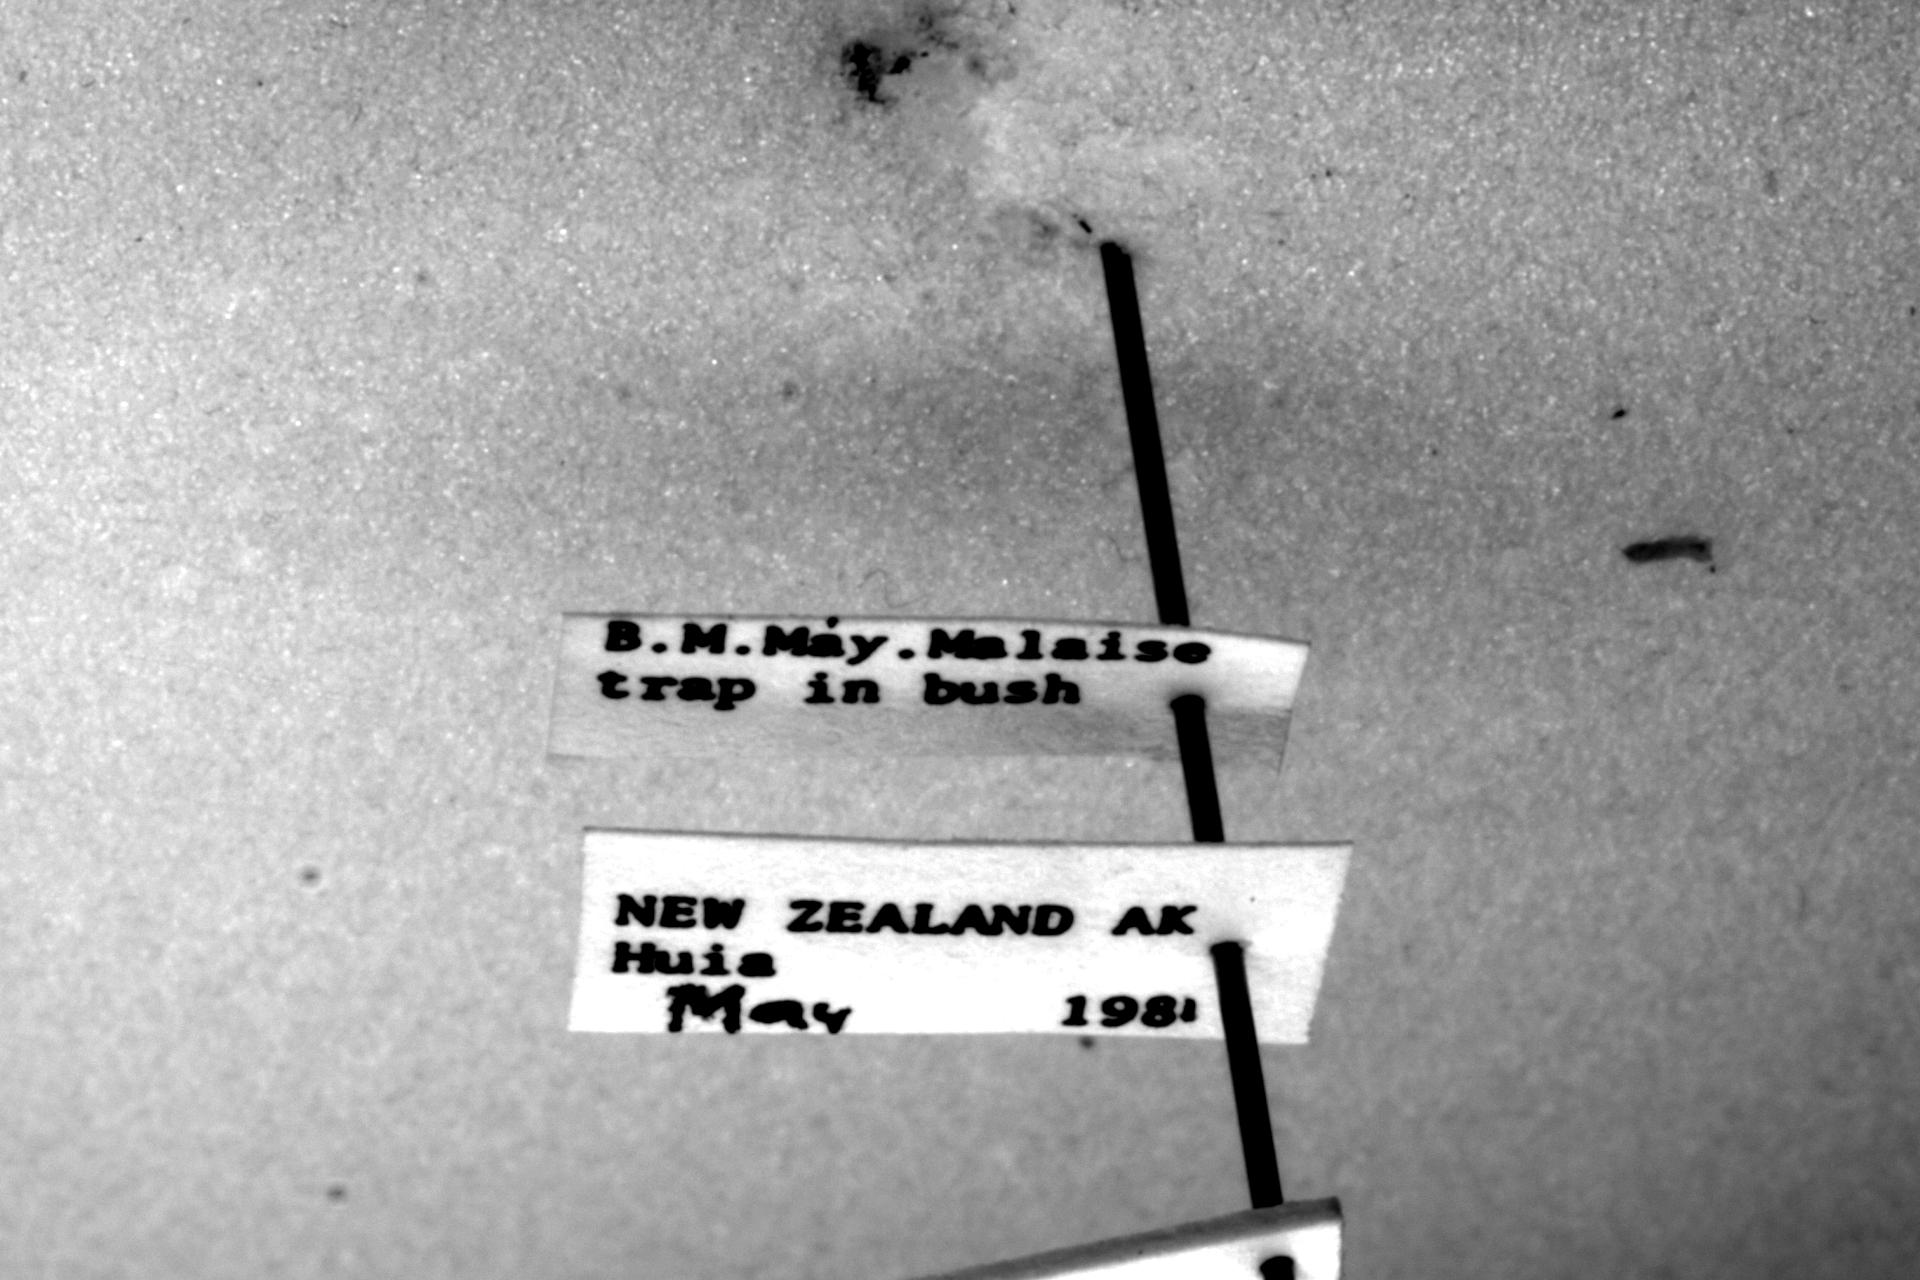mixed_label: (570, 829, 1350, 1043)
typed_label: (547, 614, 1309, 773)
